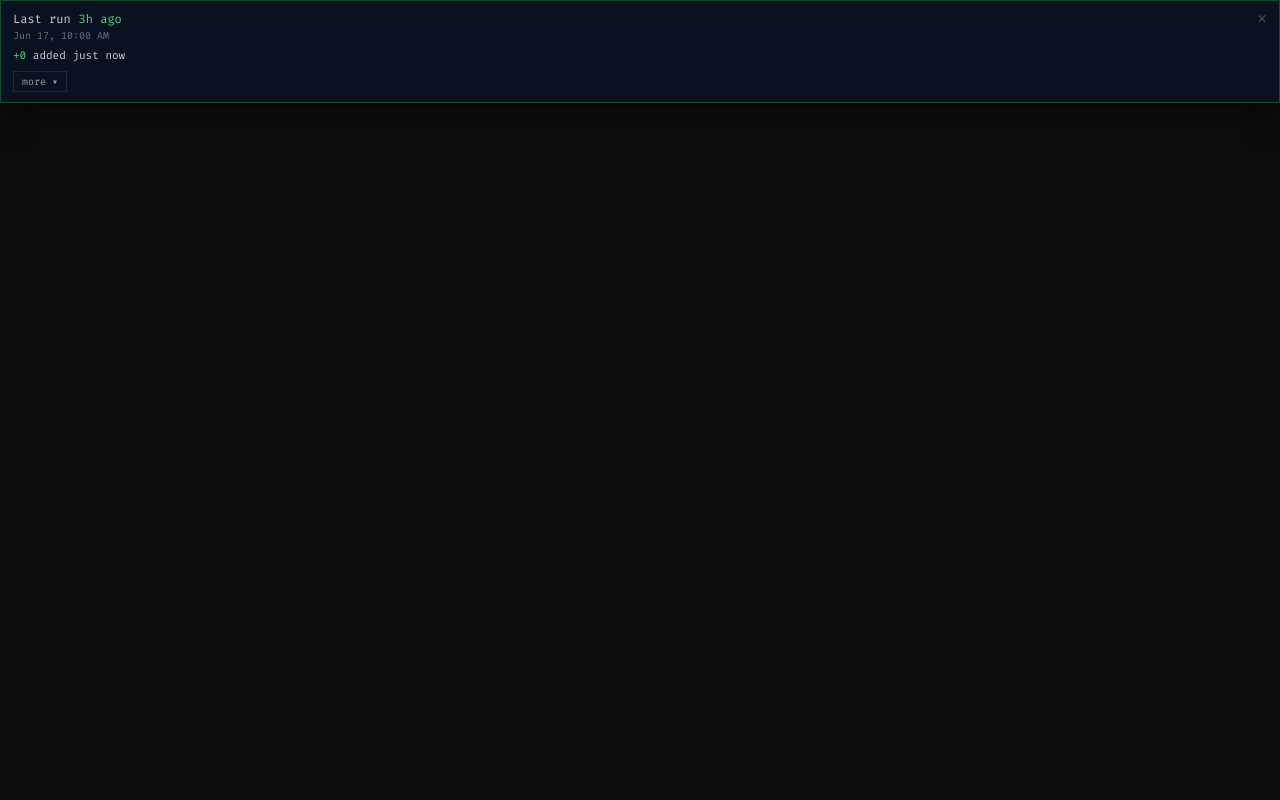
Test case: shows an empty-today note when nothing was added today
This screenshot has width=1280, height=800.
Click the button "more ▾" at (40, 82), box [13,71,67,92]
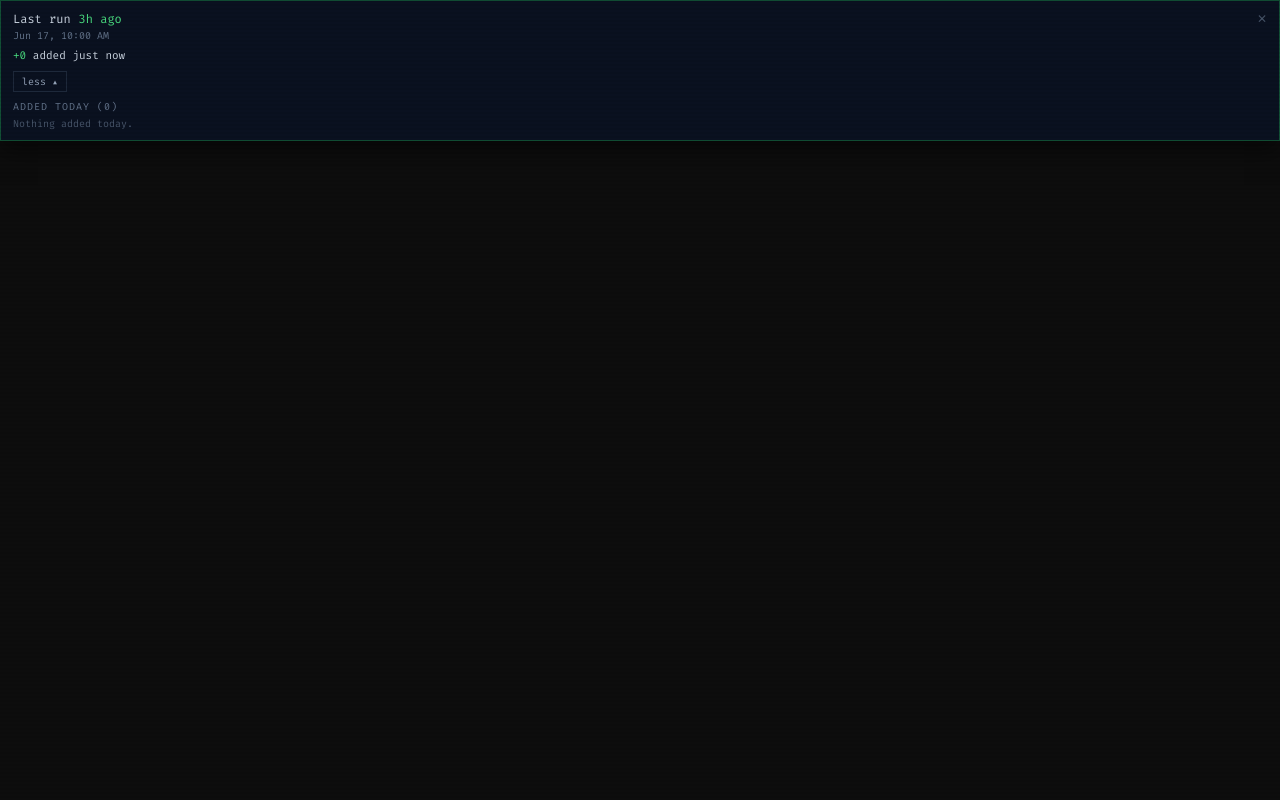
Expected: the text "Nothing added today." is shown, [13,117,133,130]
